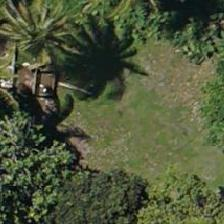coconut_tree: (7, 0, 97, 77)
